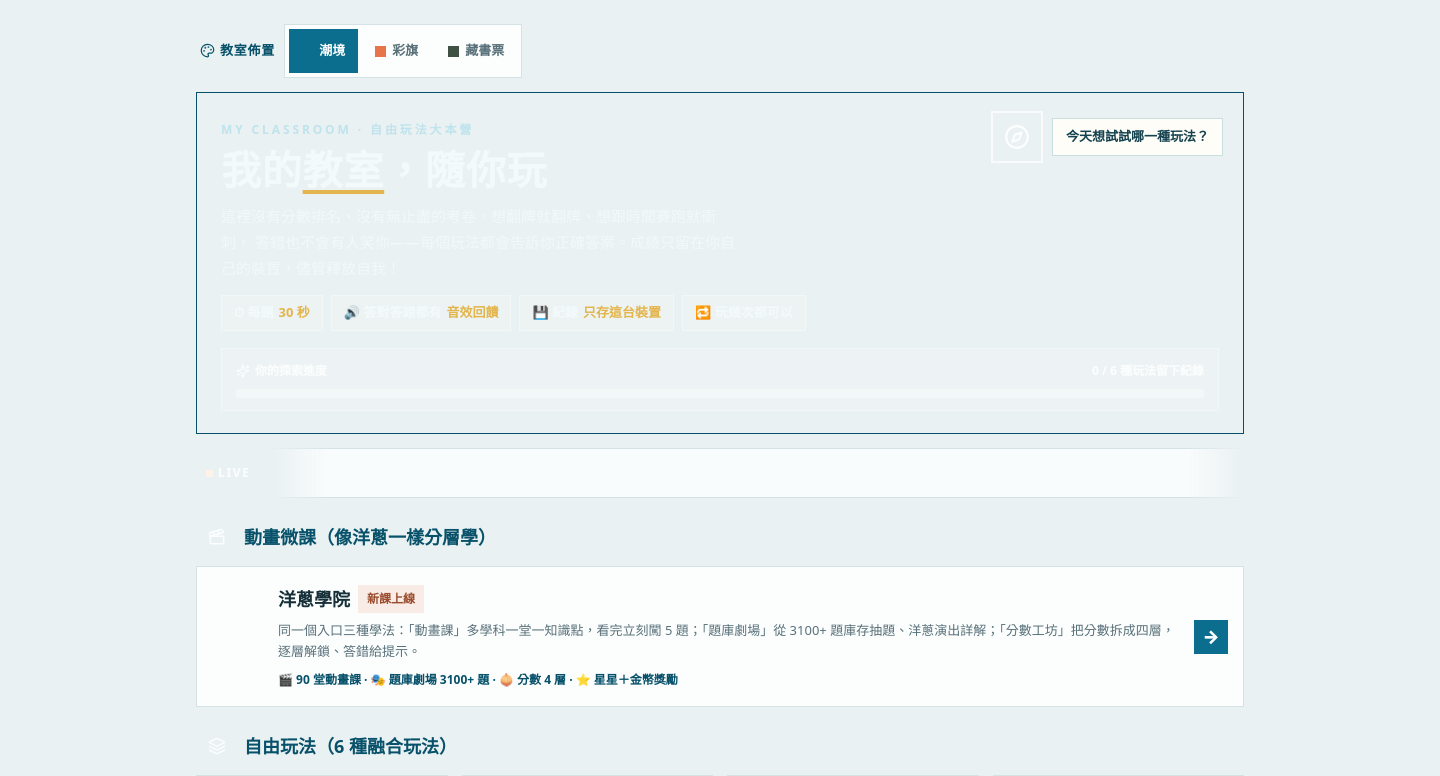
QuizRoom 我的教室 › 預設為潮境皮，具備進度條、即時彈幕與領航員悄悄話
Expected: the element named "教室佈置切換" is shown, [200,24,522,78]
Expected: the element with class "cs-bullets" is shown, [271,448,1244,498]
// 點氣泡會換一句領航員悄悄話
Click the button "今天想試試哪一種玩法？".
click(1138, 137)  # box [1052,118,1223,156]
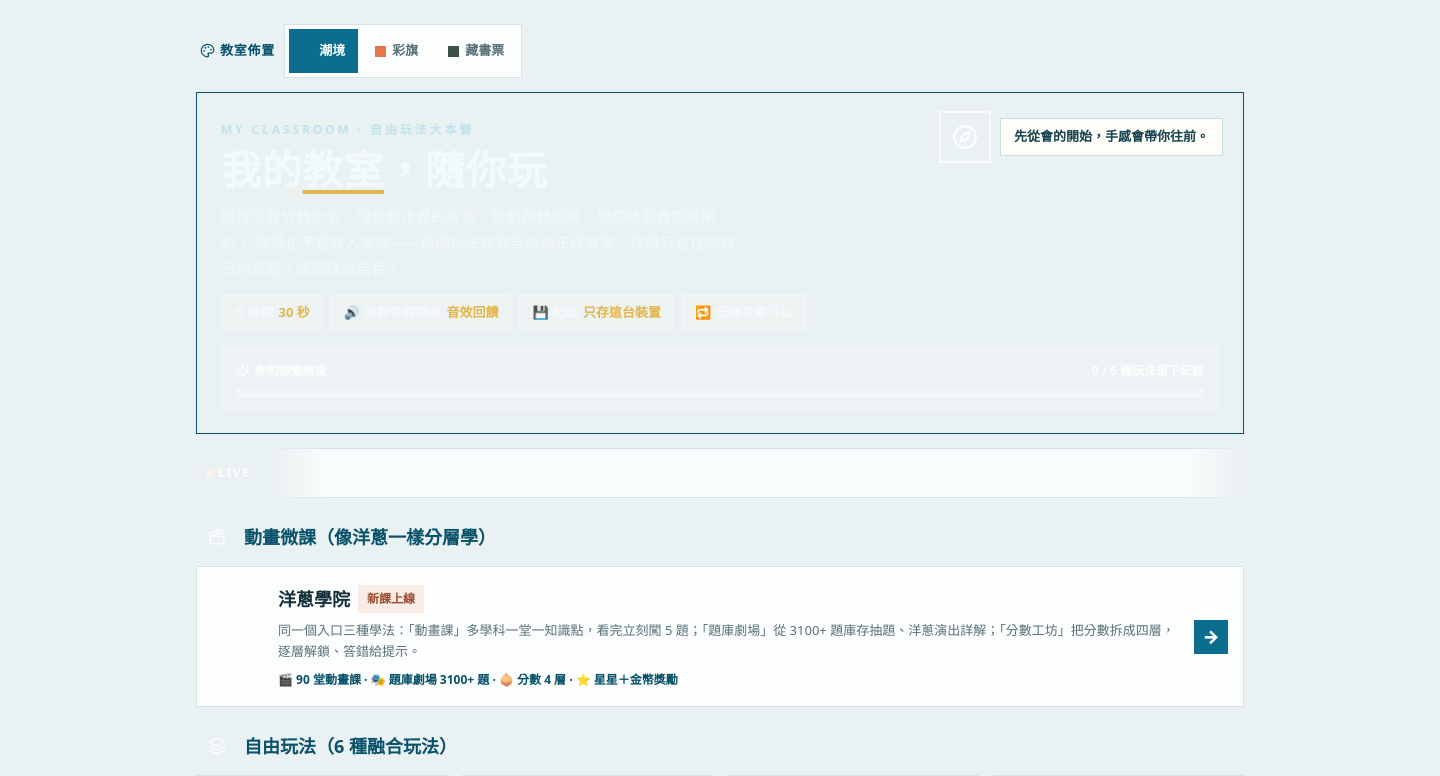
Result: the button "先從會的開始，手感會帶你往前。" is shown at [1000,118,1223,156]
